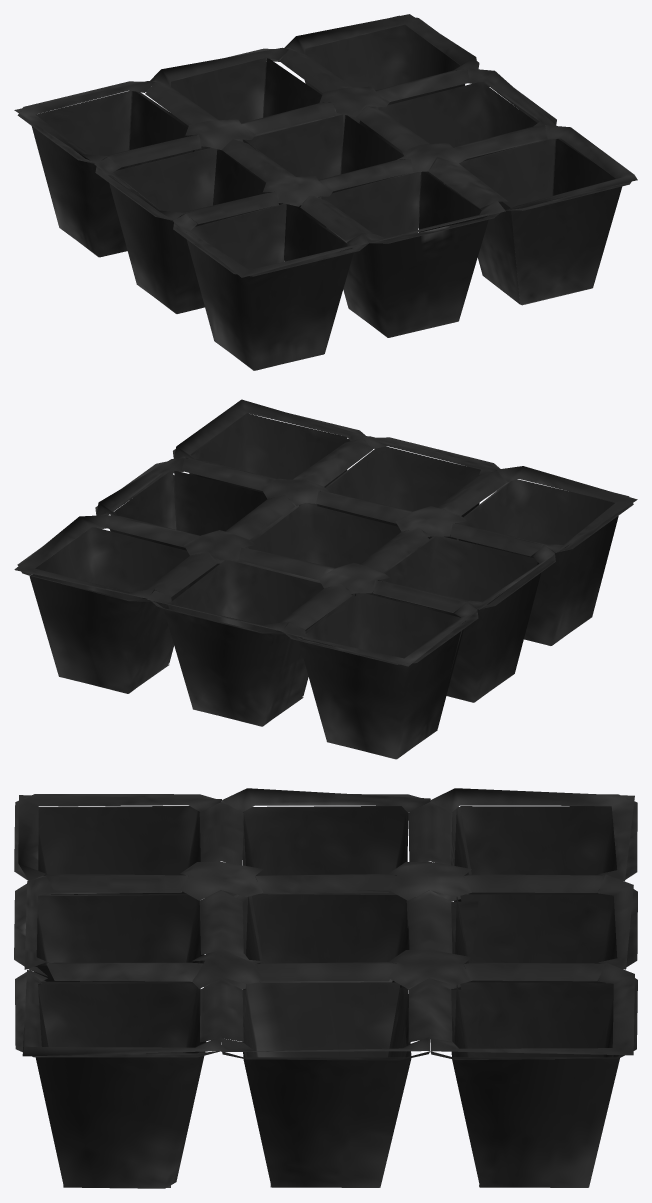
File: seeding_tray_01.glb
3 renders of one model, top to bottom at view 1: azimuth 30°, elevation 25°; view 2: azimuth 150°, elevation 25°; view 3: azimuth 270°, elevation 25°, orthographic. The views are drawn at different scales.
Parts seen in each view (by area): view 1: seeding_tray_01; view 2: seeding_tray_01; view 3: seeding_tray_01.
Boxes of the visible parts, <box> form: seeding_tray_01: <box>14,14,637,370</box>; seeding_tray_01: <box>14,399,637,759</box>; seeding_tray_01: <box>14,788,637,1188</box>.
Size of the model in its own units: 0.2195 by 0.0619 by 0.2196.
Materials: 1 (1 with a texture image).
